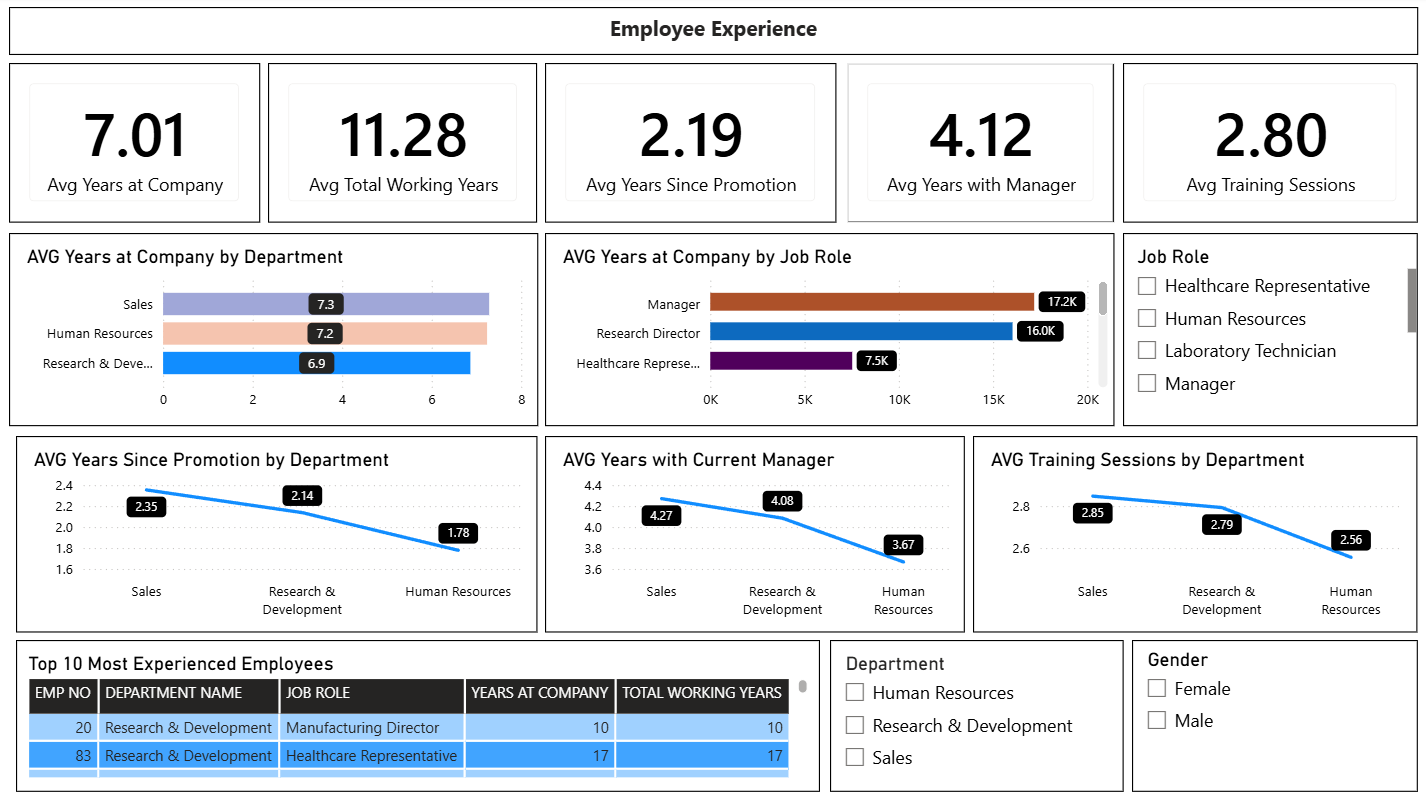

Layout of this report page (visuals, bound fields, positions):
{"tool":"powerbi","page":{"name":"Employee Experience","canvas":[1280,720],"ordinal":4},"visuals":[{"type":"textbox","box":[9.7,8.8,1261.5,42.8],"z":0},{"type":"cardVisual","fields":{"Data":["hr business_travel.Average Years at Company"]},"box":[9.7,59.3,224.7,143],"z":1000},{"type":"cardVisual","fields":{"Data":["hr business_travel.Average Total Working Years"]},"box":[242.2,59.3,241.2,143],"z":2000},{"type":"cardVisual","fields":{"Data":["hr business_travel.Average Years Since Promotion"]},"box":[490.2,59.3,260.7,143],"z":3000},{"type":"cardVisual","fields":{"Data":["hr business_travel.Average Years with Manager"]},"box":[760.6,59.3,239.3,143],"z":4000},{"type":"cardVisual","fields":{"Data":["hr business_travel.Average Training Sessions"]},"box":[1007.7,59.3,263.6,143],"z":5000},{"type":"clusteredBarChart","title":"AVG Years at Company by Department","fields":{"Category":["hr department.department_name"],"Y":["hr business_travel.Avg Years at Company"]},"box":[9.7,211.1,473.7,173.1],"z":6000},{"type":"clusteredBarChart","title":"AVG Years at Company by Job Role","fields":{"Category":["hr job_role.job_role_name"],"Y":["hr business_travel.Average Salary"]},"box":[490.2,211.1,509.7,173.1],"z":7000},{"type":"lineChart","title":"AVG Years Since Promotion by Department","fields":{"Category":["hr department.department_name"],"Y":["hr business_travel.Avg Years Since Promotion"]},"box":[16.5,392.9,466.9,176],"z":8000},{"type":"lineChart","title":"AVG Years with Current Manager","fields":{"Category":["hr department.department_name"],"Y":["hr business_travel.Avg Years with Manager"]},"box":[490.2,392.9,376.4,176],"z":9000},{"type":"lineChart","title":"AVG Training Sessions by Department","fields":{"Category":["hr department.department_name"],"Y":["hr business_travel.Avg Training Sessions"]},"box":[873.4,392.9,397.8,176],"z":10000},{"type":"tableEx","title":"Top 10 Most Experienced Employees","fields":{"Values":["hr employee.employee_number","hr department.department_name","hr job_role.job_role_name","hr employee.years_at_company","hr employee.total_working_years"]},"box":[16.5,575.8,719.8,136.2],"z":11000},{"type":"slicer","fields":{"Values":["hr department.department_name"]},"box":[745,575.8,262.6,136.2],"z":12000},{"type":"slicer","fields":{"Values":["hr employee.gender"]},"box":[1015.4,575.8,255.8,136.2],"z":13000},{"type":"slicer","fields":{"Values":["hr job_role.job_role_name"]},"box":[1007.7,211.1,263.6,173.1],"z":14000}]}

Visuals, with their boxes in screenshot pixels (x1, y1, x2, y2), scaled from the page's 1280x720 canvas onto the 1426x796 screenshot:
textbox: left=11, top=10, right=1416, bottom=57
cardVisual - hr business_travel.Average Years at Company: left=11, top=66, right=261, bottom=224
cardVisual - hr business_travel.Average Total Working Years: left=270, top=66, right=539, bottom=224
cardVisual - hr business_travel.Average Years Since Promotion: left=546, top=66, right=837, bottom=224
cardVisual - hr business_travel.Average Years with Manager: left=847, top=66, right=1114, bottom=224
cardVisual - hr business_travel.Average Training Sessions: left=1123, top=66, right=1416, bottom=224
"AVG Years at Company by Department" clusteredBarChart: left=11, top=233, right=539, bottom=425
"AVG Years at Company by Job Role" clusteredBarChart: left=546, top=233, right=1114, bottom=425
"AVG Years Since Promotion by Department" lineChart: left=18, top=434, right=539, bottom=629
"AVG Years with Current Manager" lineChart: left=546, top=434, right=965, bottom=629
"AVG Training Sessions by Department" lineChart: left=973, top=434, right=1416, bottom=629
"Top 10 Most Experienced Employees" tableEx: left=18, top=637, right=820, bottom=787
slicer - hr department.department_name: left=830, top=637, right=1123, bottom=787
slicer - hr employee.gender: left=1131, top=637, right=1416, bottom=787
slicer - hr job_role.job_role_name: left=1123, top=233, right=1416, bottom=425
